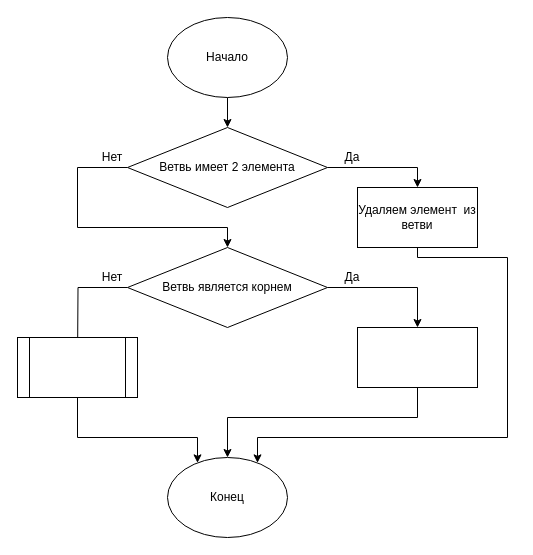
This 533x555 diagram has some shape labels left out. Each missing label, with the box of its shape:
распределение или склеивание: (16, 336, 138, 398)
Удаляем корень дерева: (356, 326, 478, 388)
